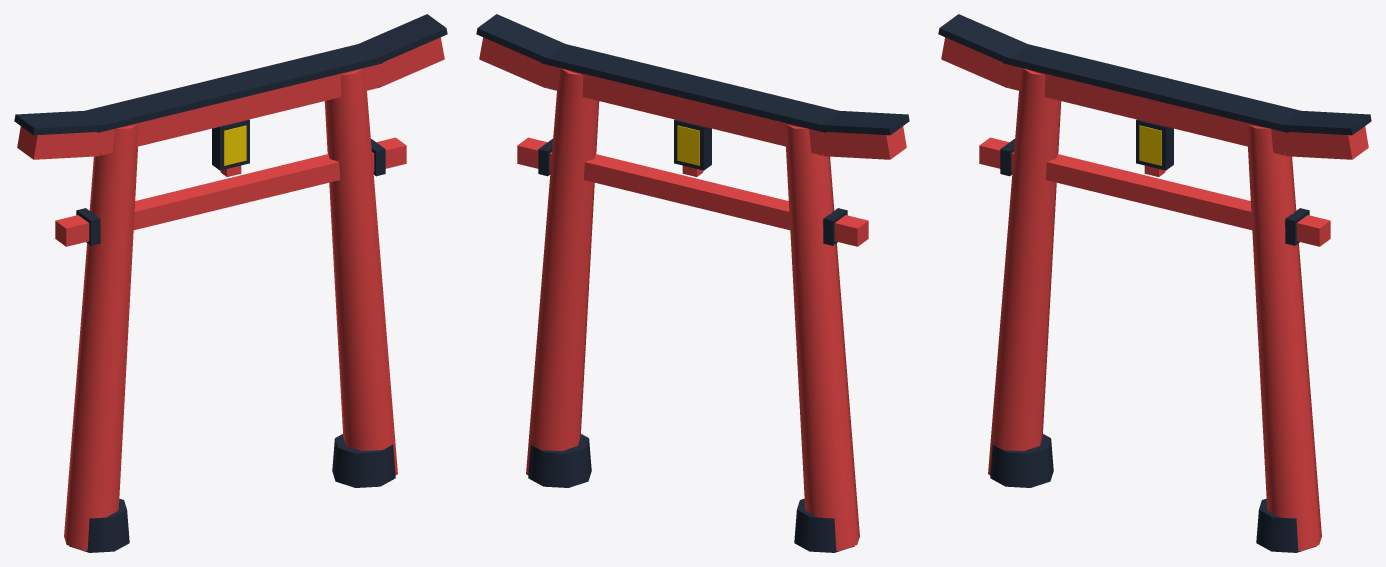
The model's file is japan.glb.
3 renders of one model, left to right at view 1: azimuth 30°, elevation 25°; view 2: azimuth 150°, elevation 25°; view 3: azimuth 330°, elevation 25°, orthographic.
Parts seen in each view (by area): view 1: Pillar_Left, Pillar_Right, NukiBeam, CentralRoof, CentralKasagi, Plinth_Right, LeftKasagiWing, RoofWing_Right, RoofWing_Left, RightKasagiWing, Plinth_Left, PlaqueFrame (+1 smaller); view 2: Pillar_Left, Pillar_Right, NukiBeam, CentralRoof, CentralKasagi, Plinth_Right, LeftKasagiWing, RoofWing_Right, RoofWing_Left, RightKasagiWing, Plinth_Left, PlaqueFrame (+1 smaller); view 3: Pillar_Right, Pillar_Left, NukiBeam, CentralRoof, CentralKasagi, Plinth_Left, RightKasagiWing, RoofWing_Left, RoofWing_Right, LeftKasagiWing, Plinth_Right, PlaqueFrame (+1 smaller).
Boxes of the visible parts, x1=… form: Pillar_Left: x1=64, y1=125, x2=137, y2=550; Pillar_Right: x1=324, y1=68, x2=397, y2=474; NukiBeam: x1=55, y1=137, x2=406, y2=246; CentralRoof: x1=85, y1=44, x2=382, y2=132; CentralKasagi: x1=100, y1=65, x2=377, y2=155; Plinth_Right: x1=332, y1=434, x2=395, y2=487; LeftKasagiWing: x1=17, y1=126, x2=103, y2=159; RoofWing_Right: x1=358, y1=14, x2=447, y2=64; RoofWing_Left: x1=14, y1=110, x2=103, y2=135; RightKasagiWing: x1=374, y1=37, x2=444, y2=87; Plinth_Left: x1=69, y1=498, x2=129, y2=552; PlaqueFrame: x1=212, y1=119, x2=249, y2=170; Pillar_Left: x1=786, y1=125, x2=859, y2=550; Pillar_Right: x1=526, y1=68, x2=599, y2=474; NukiBeam: x1=517, y1=137, x2=868, y2=246; CentralRoof: x1=541, y1=44, x2=838, y2=132; CentralKasagi: x1=546, y1=64, x2=823, y2=155; Plinth_Right: x1=528, y1=434, x2=591, y2=487; LeftKasagiWing: x1=820, y1=126, x2=906, y2=159; RoofWing_Right: x1=476, y1=14, x2=565, y2=63; RoofWing_Left: x1=820, y1=110, x2=909, y2=135; RightKasagiWing: x1=479, y1=37, x2=546, y2=87; Plinth_Left: x1=794, y1=498, x2=854, y2=552; PlaqueFrame: x1=674, y1=119, x2=711, y2=170; Pillar_Right: x1=1248, y1=125, x2=1321, y2=550; Pillar_Left: x1=988, y1=68, x2=1061, y2=474; NukiBeam: x1=979, y1=137, x2=1330, y2=246; CentralRoof: x1=1003, y1=44, x2=1300, y2=132; CentralKasagi: x1=1008, y1=64, x2=1285, y2=155; Plinth_Left: x1=990, y1=434, x2=1053, y2=487; RightKasagiWing: x1=1282, y1=126, x2=1368, y2=159; RoofWing_Left: x1=938, y1=14, x2=1027, y2=63; RoofWing_Right: x1=1282, y1=110, x2=1371, y2=135; LeftKasagiWing: x1=941, y1=37, x2=1008, y2=87; Plinth_Right: x1=1256, y1=498, x2=1316, y2=552; PlaqueFrame: x1=1136, y1=119, x2=1173, y2=170.
Size of the model in its own units: 5.23 by 5.27 by 0.72.
